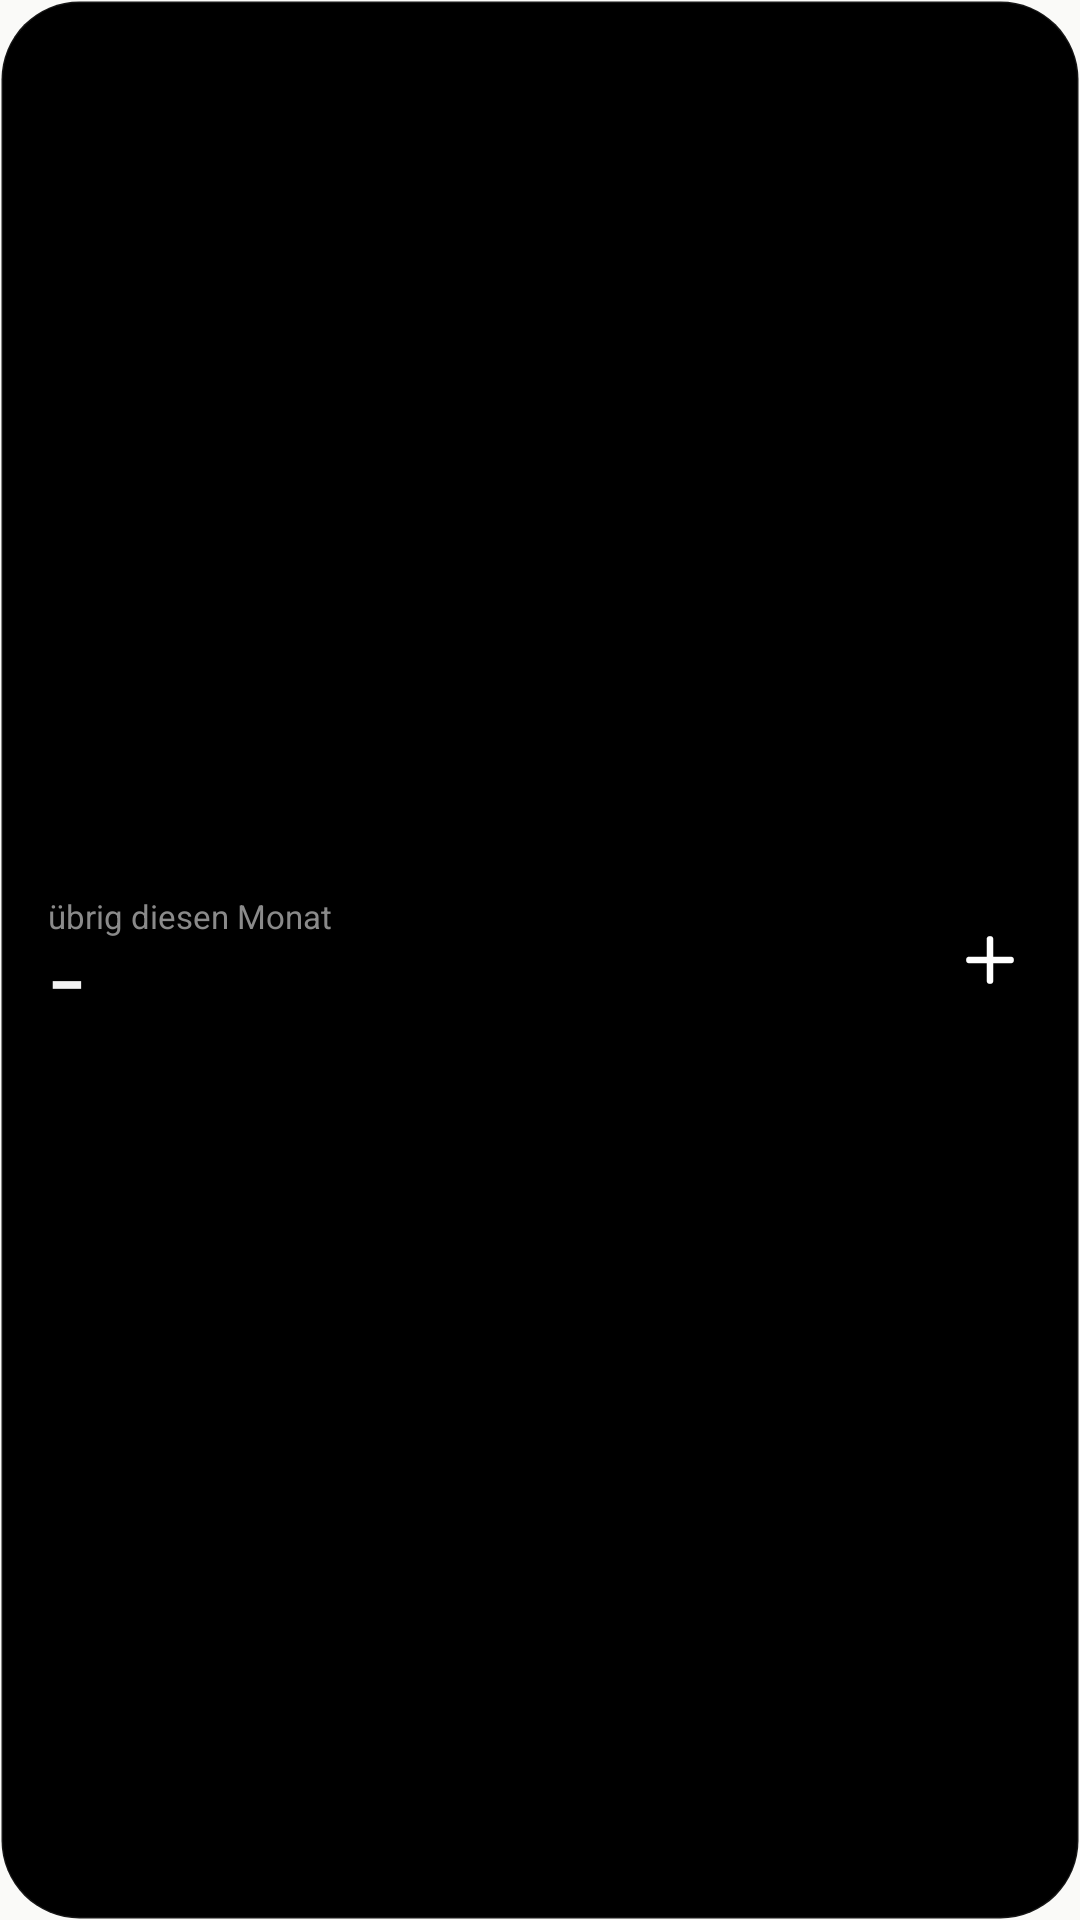

Point at icon controls on the screen. Image size 1080 × 1920, points as [x,y].
Ausgabe eintragen: [990,960]
